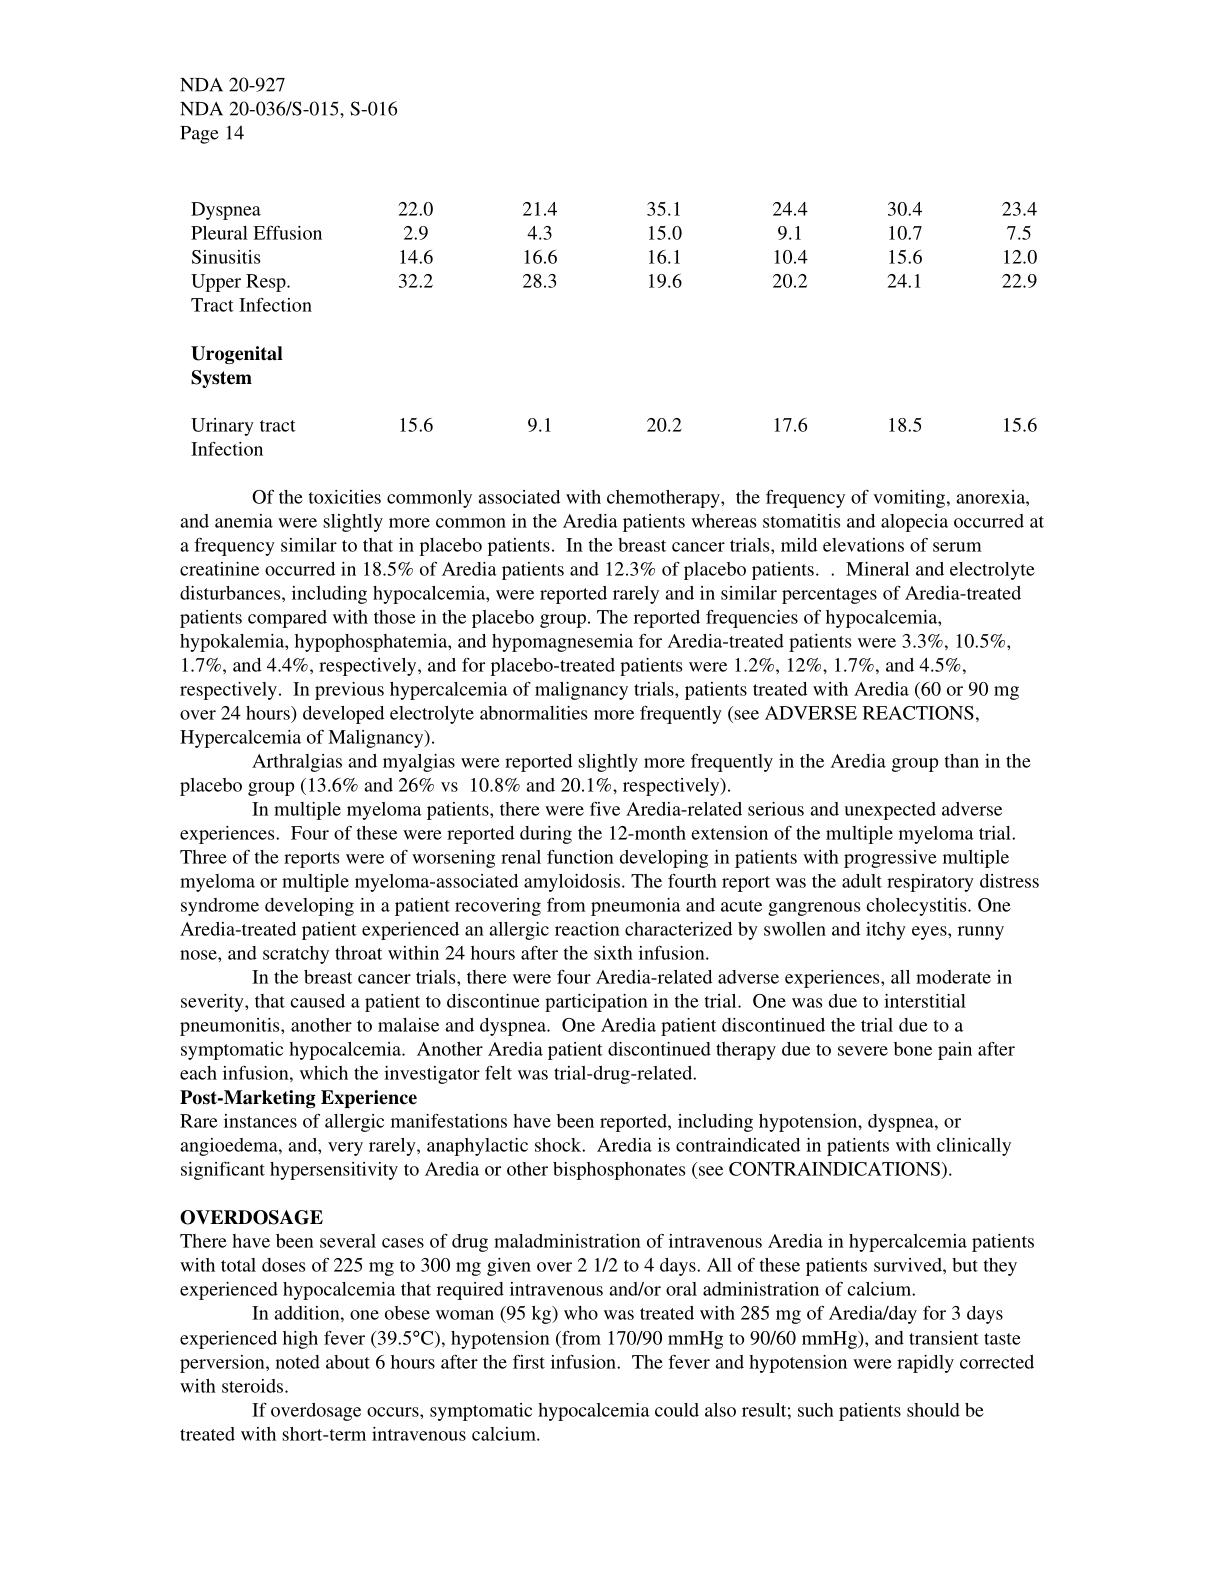nolines: (185, 195, 1044, 465)
